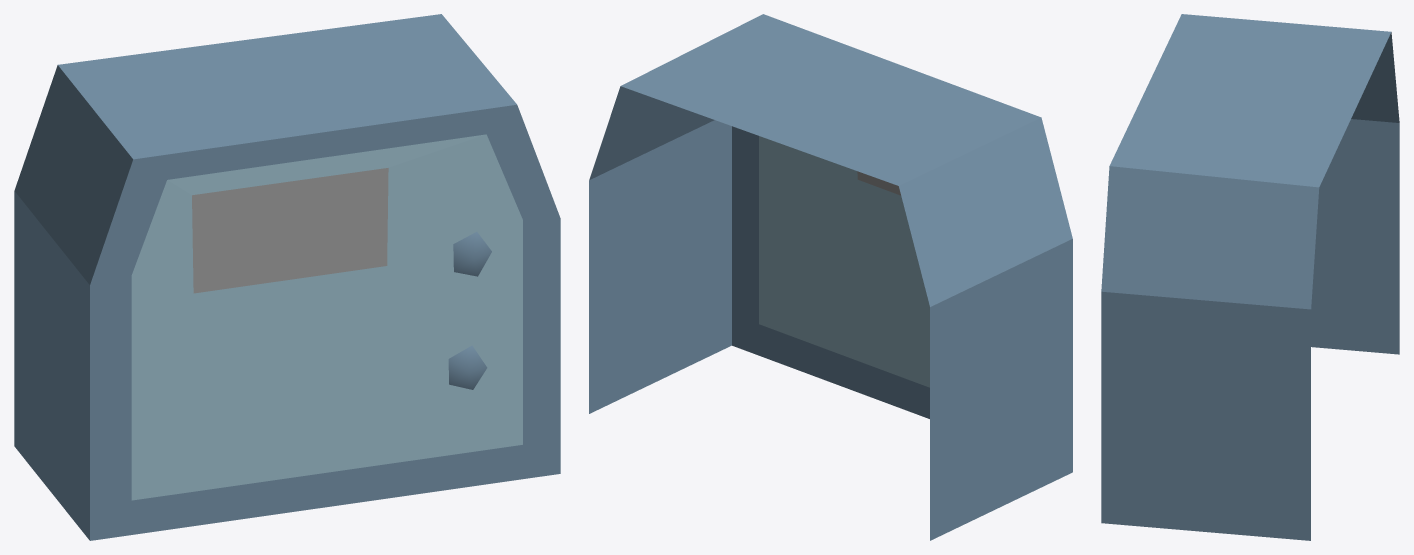
File: MSH_QuestObject_box_02.fbx
The picture shows the model from 3 angles, left to right: view 1: azimuth 30°, elevation 25°; view 2: azimuth 150°, elevation 25°; view 3: azimuth 270°, elevation 25°; orthographic projection. The views are drawn at different scales.
Parts seen in each view (by area): view 1: MSH_QuestObject_box_02; view 2: MSH_QuestObject_box_02; view 3: MSH_QuestObject_box_02.
Boxes of the visible parts, left/top/right/bottom form: MSH_QuestObject_box_02: left=14, top=14, right=560, bottom=540; MSH_QuestObject_box_02: left=589, top=14, right=1072, bottom=540; MSH_QuestObject_box_02: left=1101, top=14, right=1399, bottom=540.
Size of the model in its own units: 0.7275 by 0.5648 by 0.4492.
